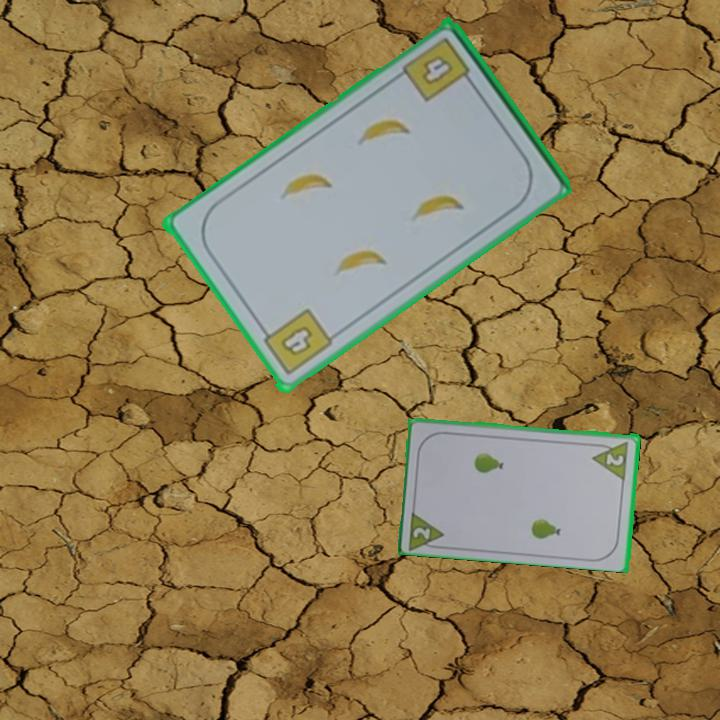2p: (405, 506, 448, 552), (589, 437, 631, 481)
4b: (256, 306, 335, 379), (398, 34, 478, 106)
